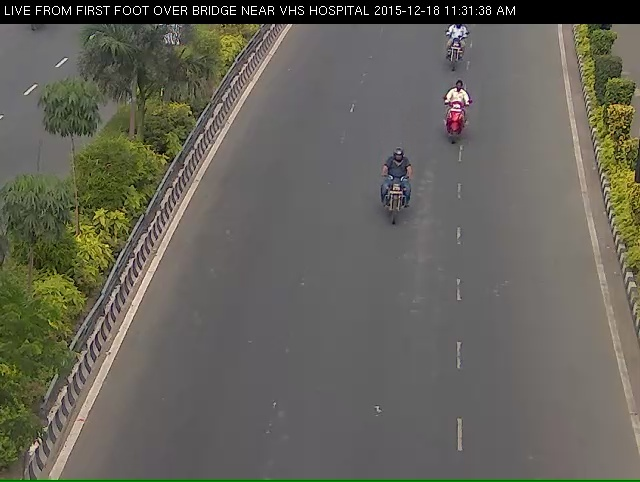Person: (377, 160, 417, 254), (436, 89, 474, 172), (441, 27, 480, 82)
